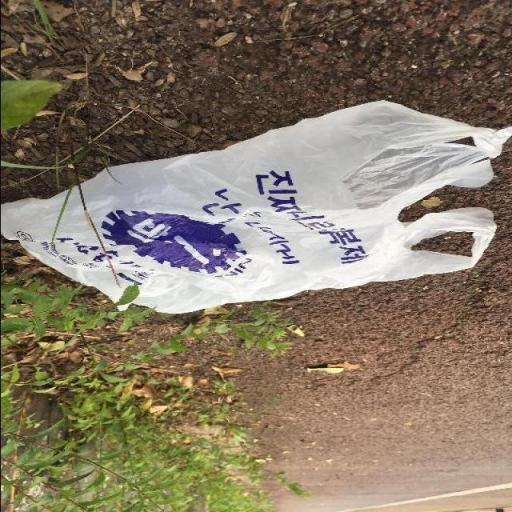plastic-bag: (0, 99, 512, 318)
